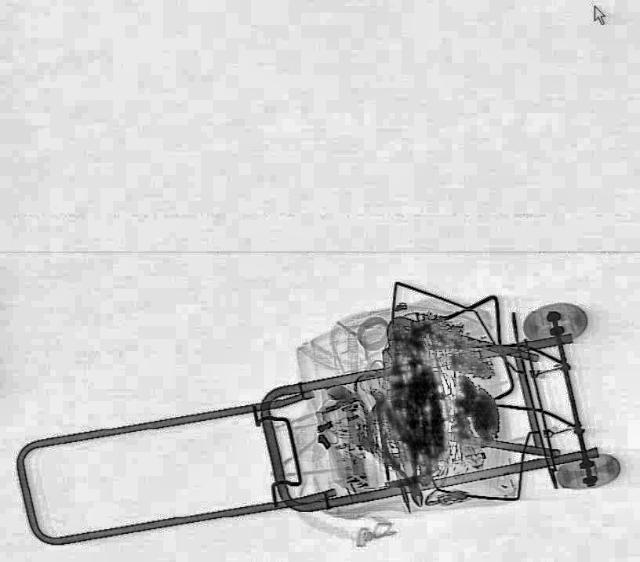Pliers: (364, 402, 438, 510)
